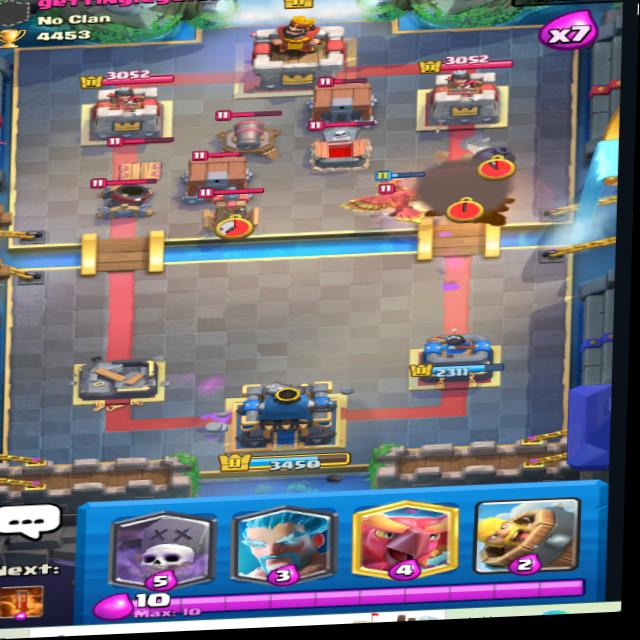cannon: (208, 105, 298, 168)
goblin-cage: (168, 148, 265, 209), (300, 73, 385, 129)
mortar: (86, 171, 162, 226)
tesla: (198, 185, 273, 236)
tesla-closed: (106, 128, 177, 187)
tombstone: (307, 116, 382, 170)
